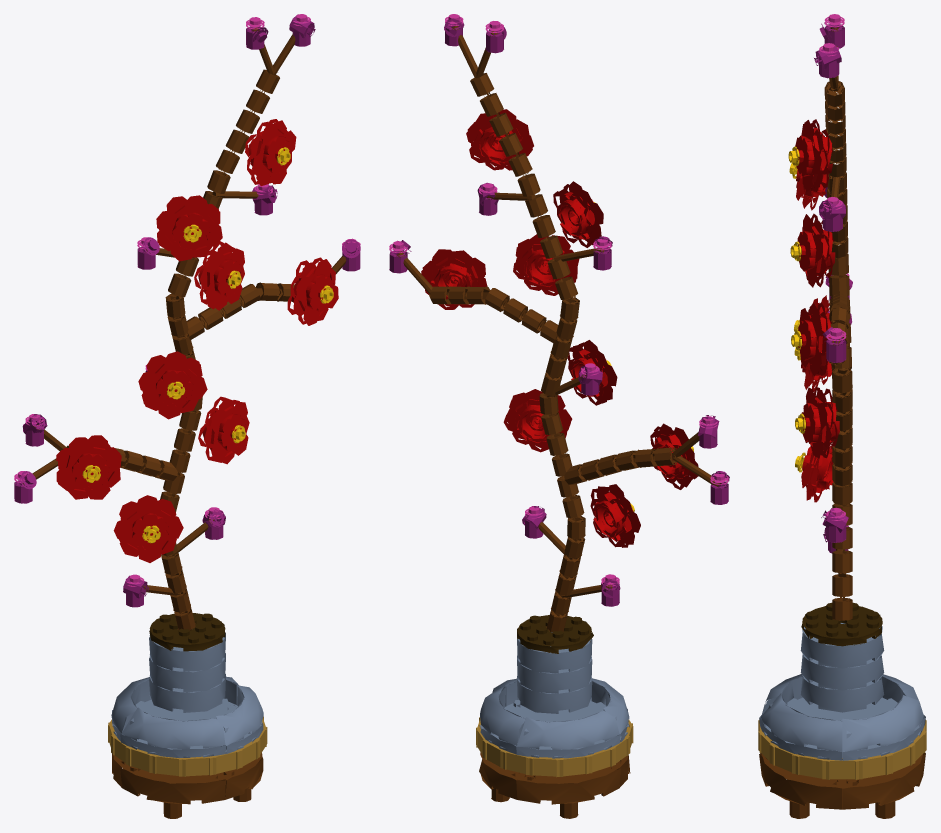
File: plum-lite.glb
3 views of the same model, side by side, from view 1: azimuth 30°, elevation 25°; view 2: azimuth 150°, elevation 25°; view 3: azimuth 270°, elevation 25° (orthographic). The views are drawn at different scales.
Visible parts, largest first — view 1: p1, p10, p40, p39, p38, p37, p9, p102, p82, p98, p90, p106 (+24 smaller); view 2: p2, p11, p40, p39, p37, p38, p12, p83, p99, p87, p107, p111 (+16 smaller); view 3: p12, p9, p40, p0, p3, p39, p37, p38, p13, p16, p86, p110 (+41 smaller).
Part boxes in pixels (box(x1,y1,x2,y2)): p1: box(120, 766, 225, 804); p10: box(121, 707, 225, 749); p40: box(149, 613, 225, 651); p39: box(149, 633, 225, 671); p38: box(149, 653, 225, 692); p37: box(149, 674, 225, 712); p9: box(216, 685, 263, 745); p102: box(56, 437, 121, 499); p82: box(113, 495, 183, 562); p98: box(156, 195, 222, 261); p90: box(138, 351, 207, 419); p106: box(290, 257, 338, 325); p2: box(516, 766, 620, 804); p11: box(517, 710, 619, 749); p40: box(517, 615, 593, 653); p39: box(517, 632, 592, 673); p37: box(517, 676, 592, 713); p38: box(517, 656, 592, 693); p12: box(480, 684, 525, 745); p83: box(590, 486, 634, 547); p99: box(553, 188, 601, 243); p87: box(503, 389, 572, 452); p107: box(421, 250, 487, 309); p111: box(469, 113, 529, 170); p12: box(842, 695, 923, 751); p9: box(761, 693, 842, 751); p40: box(801, 602, 882, 646); p0: box(759, 754, 842, 809); p3: box(842, 754, 924, 809); p39: box(800, 623, 884, 668); p37: box(800, 675, 884, 712); p38: box(800, 653, 884, 690); p13: box(759, 715, 842, 760); p16: box(842, 715, 924, 760); p86: box(802, 387, 835, 458); p110: box(795, 119, 829, 191).
Size of the model in its own units: 20.96 by 44.42 by 8.34.
